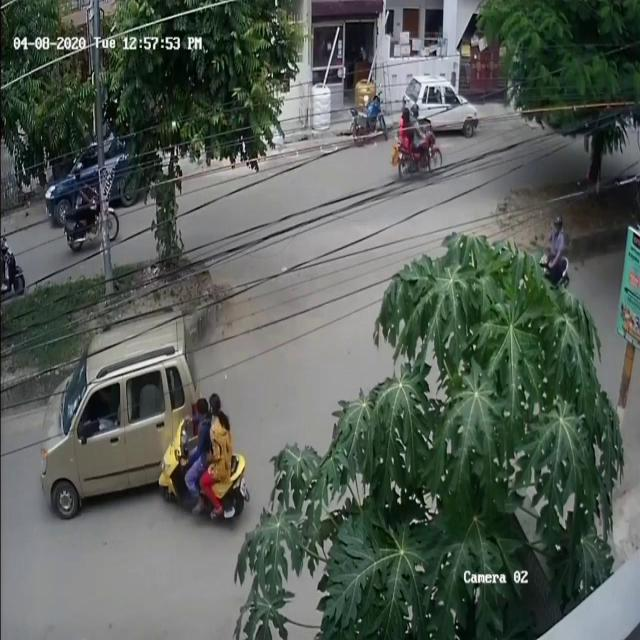accident: (30, 303, 258, 541)
